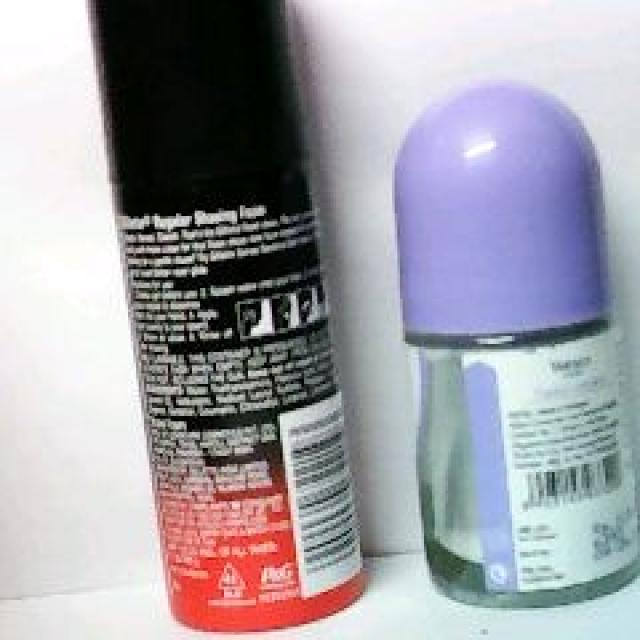gillette-foam: (88, 0, 368, 635), (96, 0, 368, 632)
yardley_rollon: (395, 85, 637, 603)
